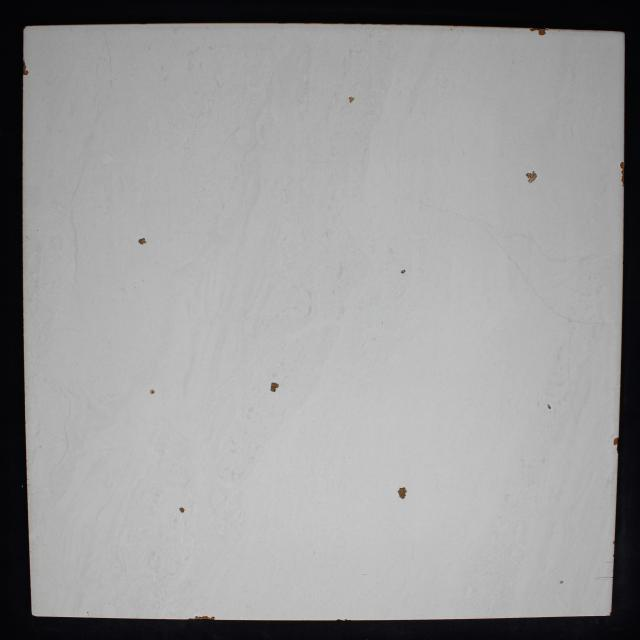edge-chipping: (538, 28, 549, 36), (194, 616, 210, 620), (22, 59, 27, 70), (613, 437, 619, 445), (621, 175, 624, 187), (529, 28, 537, 32), (23, 70, 29, 75), (620, 162, 624, 169), (210, 616, 216, 620), (621, 169, 624, 175), (23, 26, 27, 30), (616, 446, 618, 453), (189, 618, 194, 620), (613, 541, 615, 545), (610, 612, 612, 616), (336, 619, 342, 620), (344, 619, 348, 620), (613, 554, 614, 557)
hole: (525, 171, 538, 183), (398, 486, 408, 499), (270, 382, 280, 394), (138, 237, 147, 245), (348, 96, 355, 104), (149, 388, 155, 394), (178, 507, 184, 513), (547, 404, 552, 409), (400, 270, 406, 274), (560, 581, 564, 584)
line: (594, 577, 613, 579)
